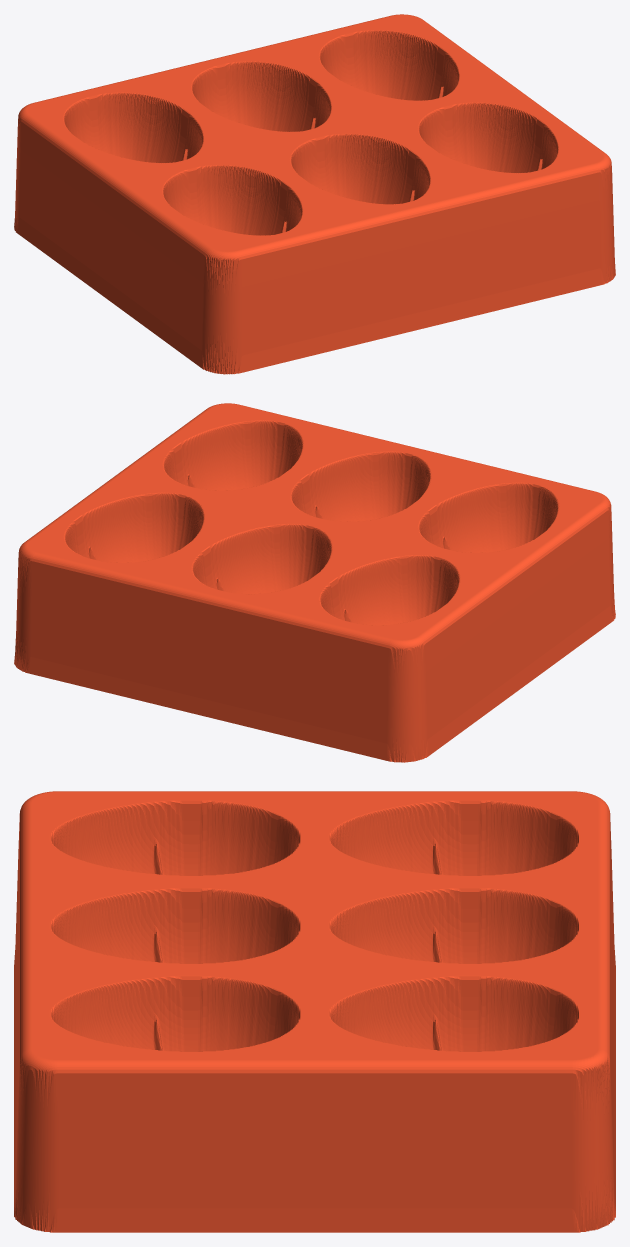
File: mold.glb
3 renders of one model, top to bottom at view 1: azimuth 30°, elevation 25°; view 2: azimuth 150°, elevation 25°; view 3: azimuth 270°, elevation 25°, orthographic. The views are drawn at different scales.
Parts seen in each view (by area): view 1: geometry_0; view 2: geometry_0; view 3: geometry_0.
Part boxes in pixels (x1,y1,x2,y2): geometry_0: [14, 14, 615, 374]; geometry_0: [14, 403, 615, 762]; geometry_0: [14, 791, 615, 1232].
Size of the model in its own units: 0.1384 by 0.0377 by 0.1246.
